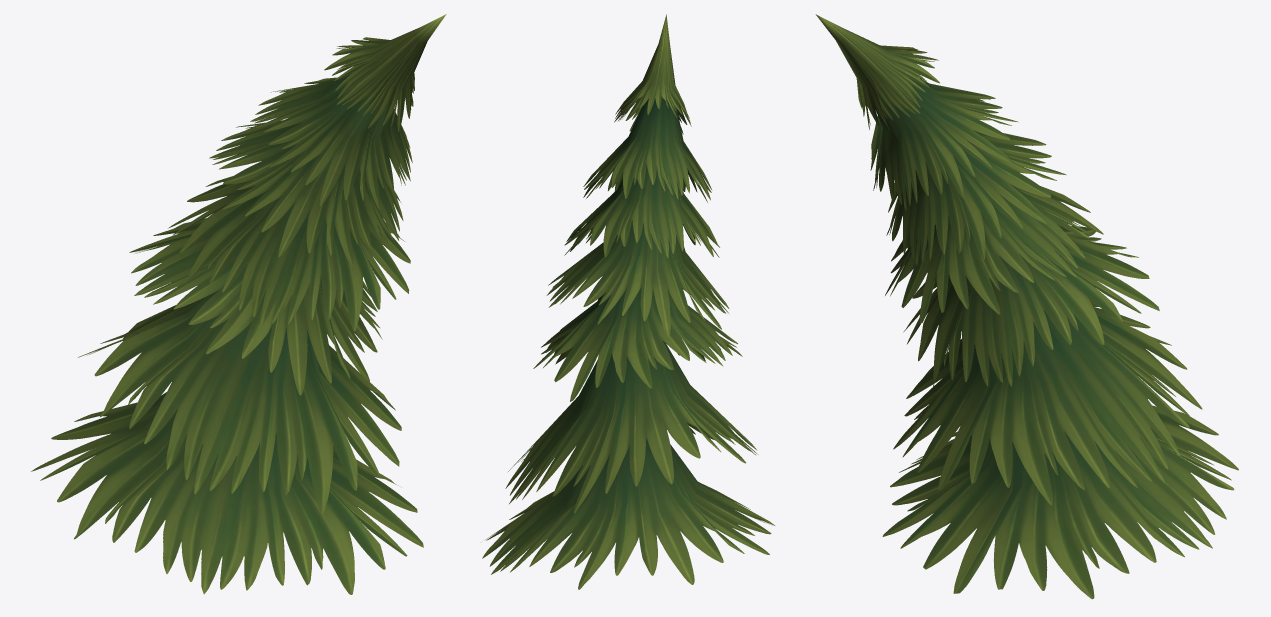
File: Pine Leaves #1 double sided.fbx
3 views of the same model, side by side, from view 1: azimuth 30°, elevation 25°; view 2: azimuth 150°, elevation 25°; view 3: azimuth 270°, elevation 25° (orthographic). The views are drawn at different scales.
Parts seen in each view (by area): view 1: Pine Leaves #002; view 2: Pine Leaves #002; view 3: Pine Leaves #002.
Part boxes in pixels (<box>): Pine Leaves #002: <box>31,14,446,594</box>; Pine Leaves #002: <box>482,14,774,589</box>; Pine Leaves #002: <box>815,14,1238,599</box>.
Bounding box in the file's own units: 244 × 395 × 284.
1 material, 1 textured.
